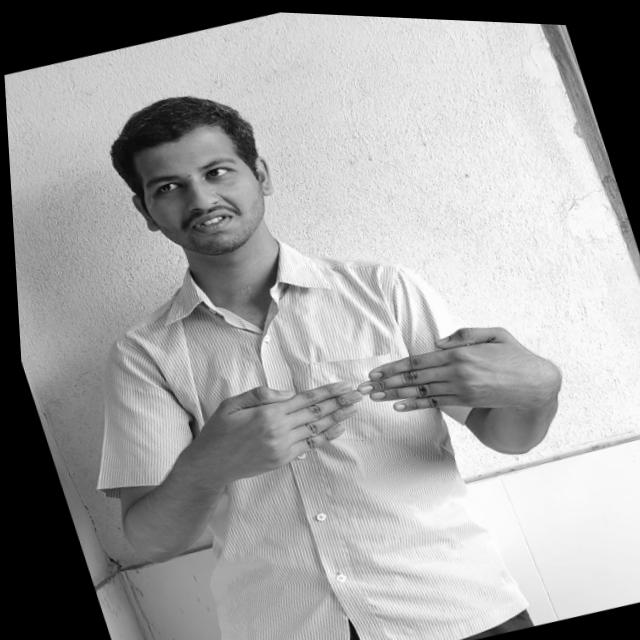Night: (182, 297, 552, 487)
